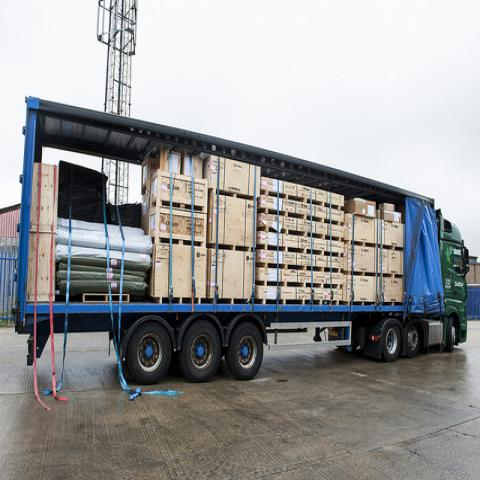truck: (13, 94, 470, 386)
